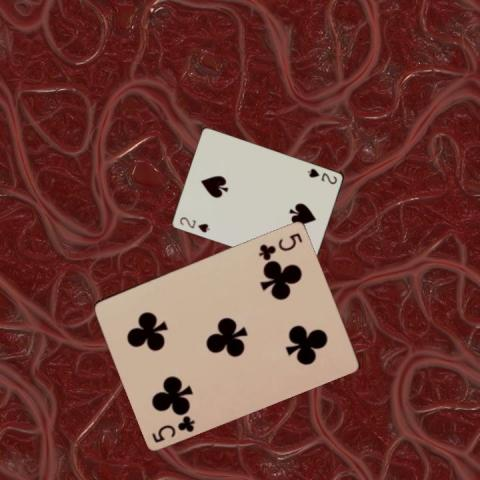2s: (176, 214, 210, 234), (304, 166, 338, 185)
5c: (148, 412, 196, 444), (256, 229, 304, 260)
